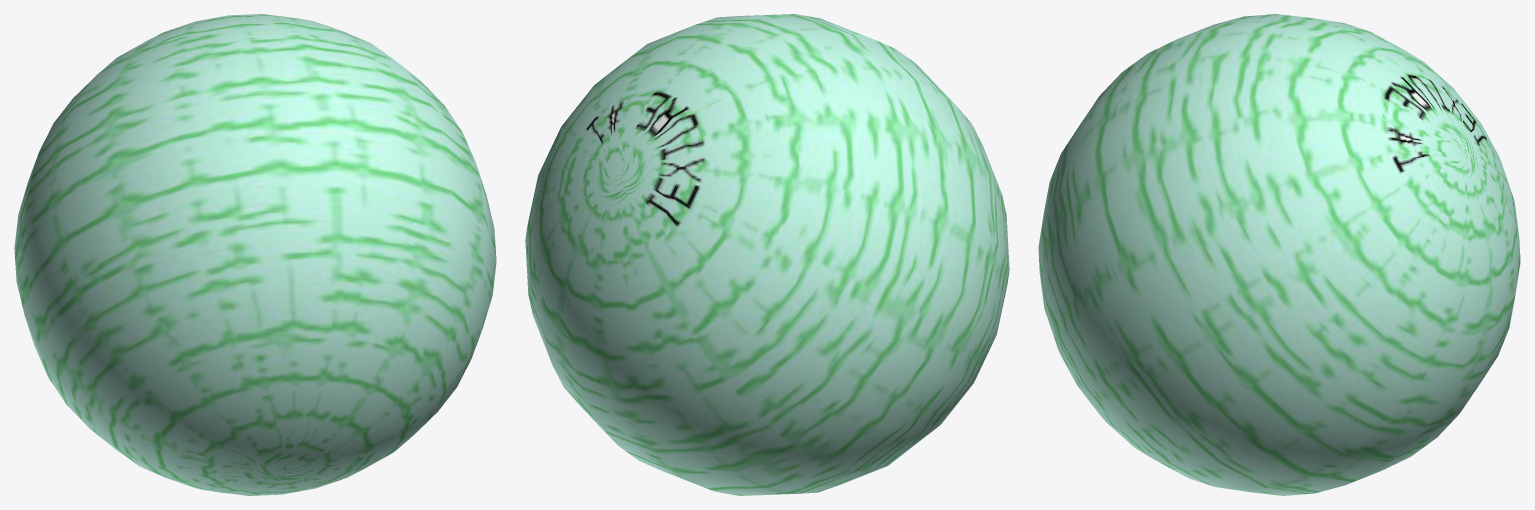
Rendered from simple_000_N_RGB_Texture_05-ChannelMapping_Specularity.dae.
3 views of the same model, side by side, from view 1: azimuth 30°, elevation 25°; view 2: azimuth 150°, elevation 25°; view 3: azimuth 270°, elevation 25° (orthographic).
Visible parts, largest first — view 1: pSphere1; view 2: pSphere1; view 3: pSphere1.
Boxes of the visible parts, x1,y1,x2,y2 form: pSphere1: (14, 14, 496, 495); pSphere1: (525, 14, 1009, 495); pSphere1: (1038, 14, 1520, 495).
Bounding box in the file's own units: 5.27 × 5.27 × 5.26.
Materials: 1 (1 with a texture image).
